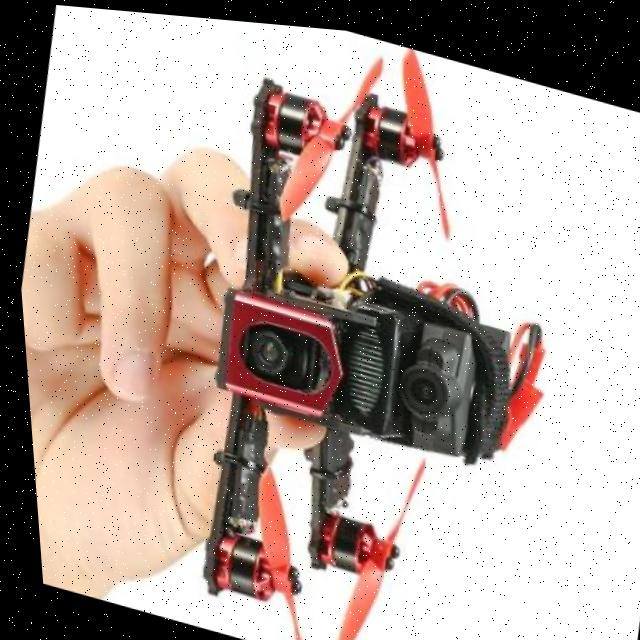drones: (113, 8, 627, 640)
